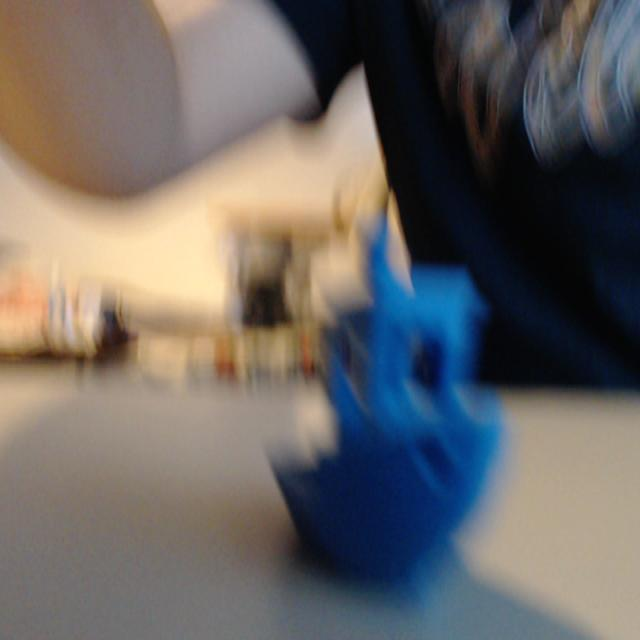benchy: (260, 191, 506, 585)
